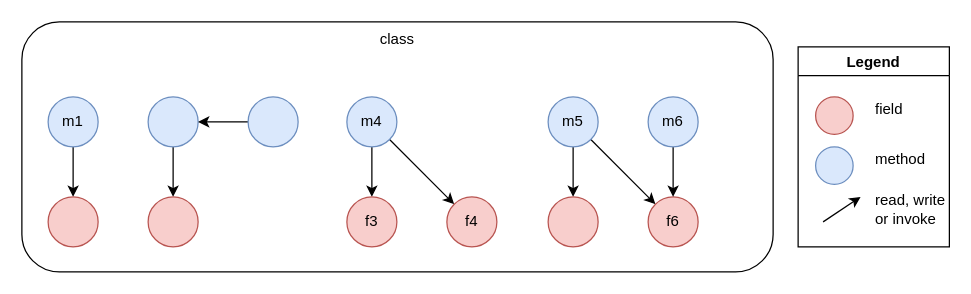
Image size: 971x294. Some labels were removed from this diagram. Here are the shapes that lost their labels. From the top down, the centre of each, then its label:
point (172, 121): m2
point (272, 121): m3
point (72, 221): f1
point (172, 221): f2
point (572, 221): f5
